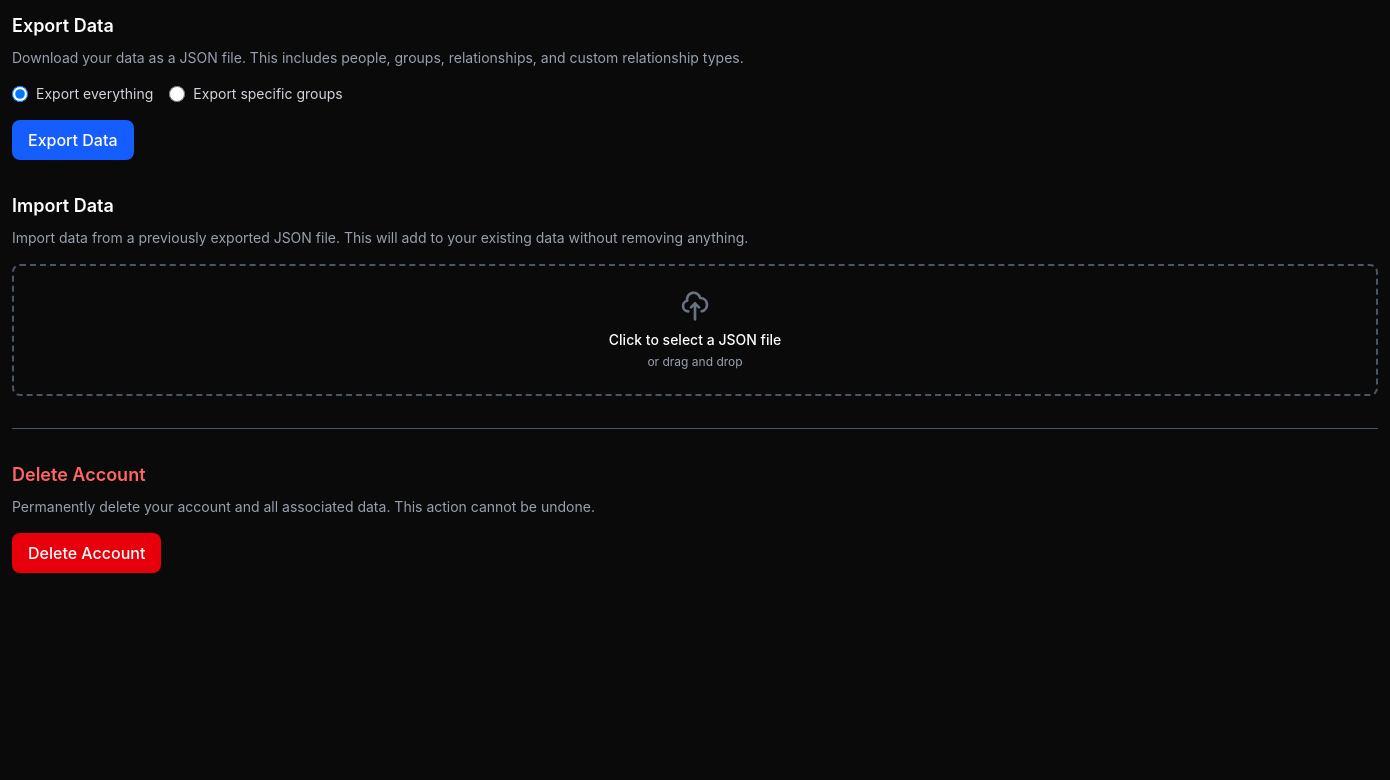
Test: AccountManagement - Export Data › Export functionality › should disable button while exporting
The width and height of the screenshot is (1390, 780).
Click the button "Export Data". click: (73, 140)
box: [12,120,134,160]
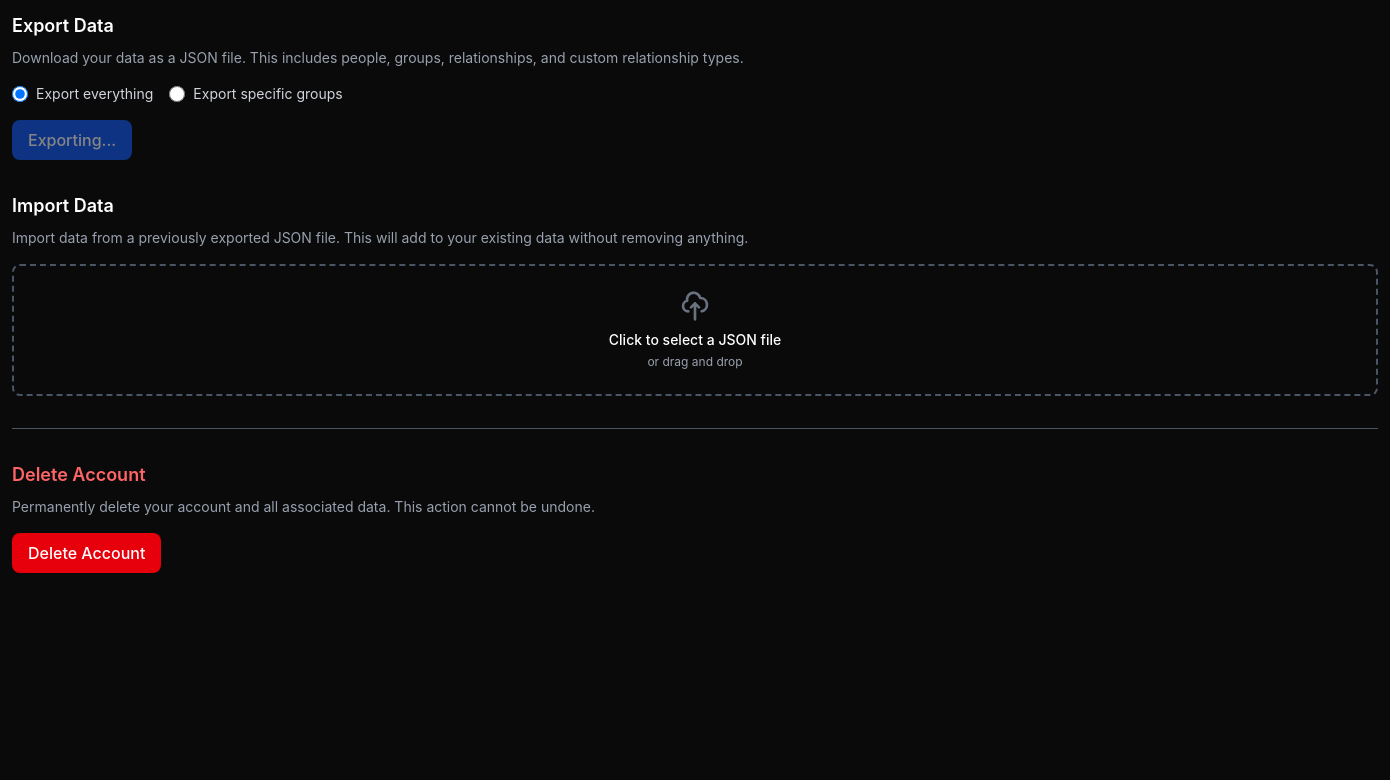
expect the button "Exporting..." is disabled: met, box [12,120,132,160]
